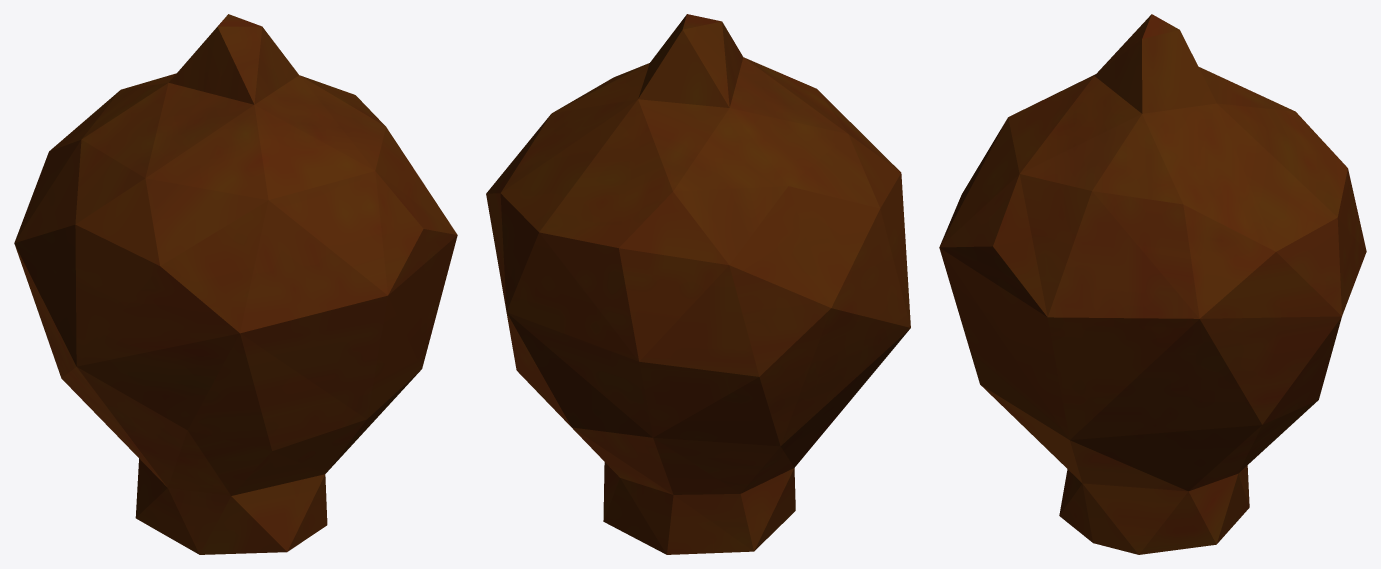
Rendered from vase3.dae.
3 renders of one model, left to right at view 1: azimuth 30°, elevation 25°; view 2: azimuth 150°, elevation 25°; view 3: azimuth 270°, elevation 25°, orthographic.
Parts seen in each view (by area): view 1: node; view 2: node; view 3: node.
Part boxes in pixels (x1,y1,x2,y2): node: [14, 14, 457, 554]; node: [486, 14, 910, 554]; node: [939, 14, 1366, 554].
Bounding box in the file's own units: 0.1992 × 0.2528 × 0.1987.
1 material, 1 textured.
